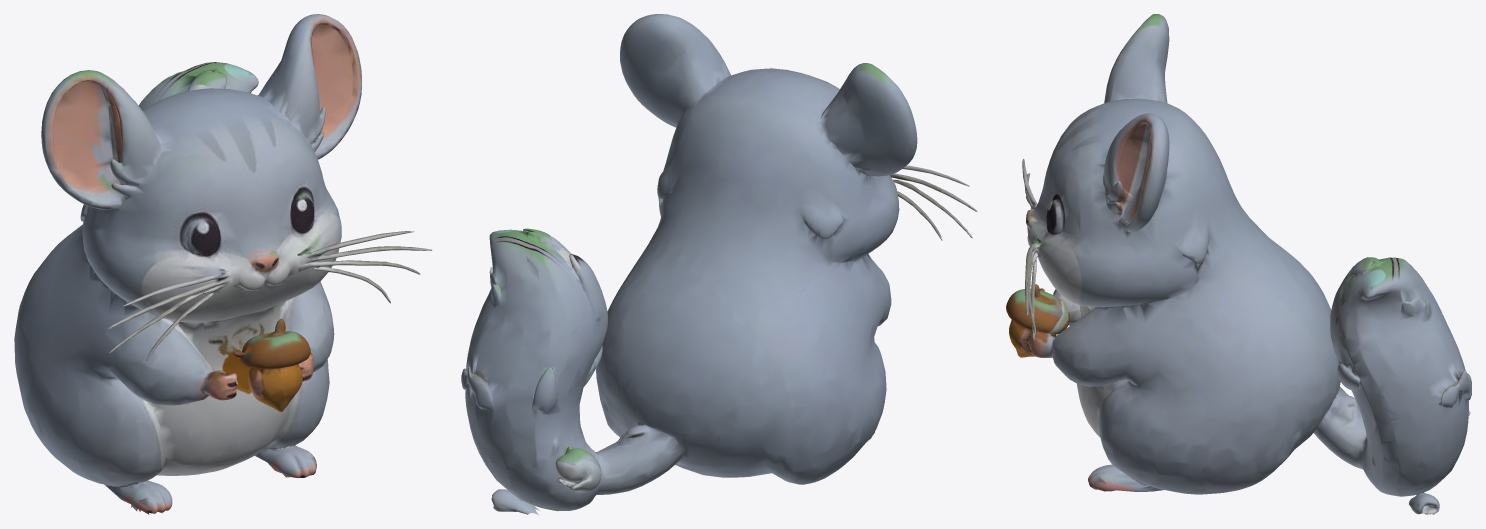
Rendered from chinchi.glb.
3 renders of one model, left to right at view 1: azimuth 30°, elevation 25°; view 2: azimuth 150°, elevation 25°; view 3: azimuth 270°, elevation 25°, orthographic. The views are drawn at different scales.
Visible parts, largest first — view 1: tripo_node_b9e74c0a-9691-4b93-9d9f-85d8c4e1078d; view 2: tripo_node_b9e74c0a-9691-4b93-9d9f-85d8c4e1078d; view 3: tripo_node_b9e74c0a-9691-4b93-9d9f-85d8c4e1078d.
Part boxes in pixels (bbox=[...]): tripo_node_b9e74c0a-9691-4b93-9d9f-85d8c4e1078d: bbox=[14, 14, 432, 514]; tripo_node_b9e74c0a-9691-4b93-9d9f-85d8c4e1078d: bbox=[461, 14, 977, 514]; tripo_node_b9e74c0a-9691-4b93-9d9f-85d8c4e1078d: bbox=[1006, 14, 1471, 514].
Bounding box in the file's own units: 0.6539 × 0.7856 × 0.8553.
Materials: 1 (1 with a texture image).
